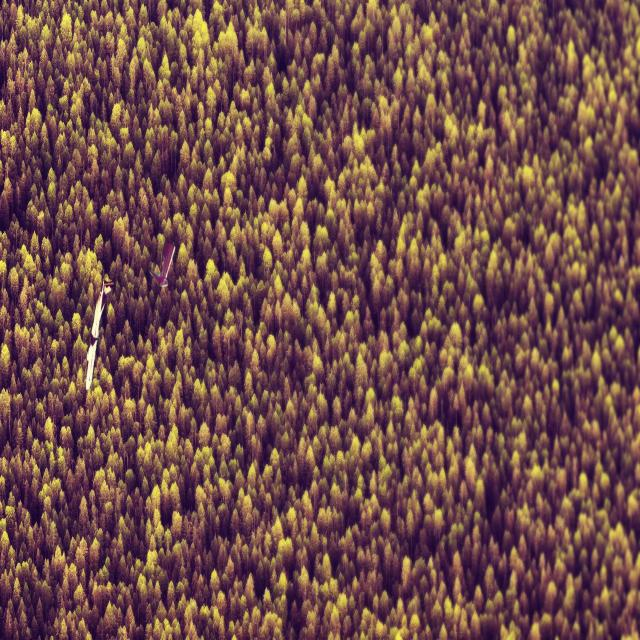airplane: (85, 273, 114, 391), (149, 241, 175, 289)
